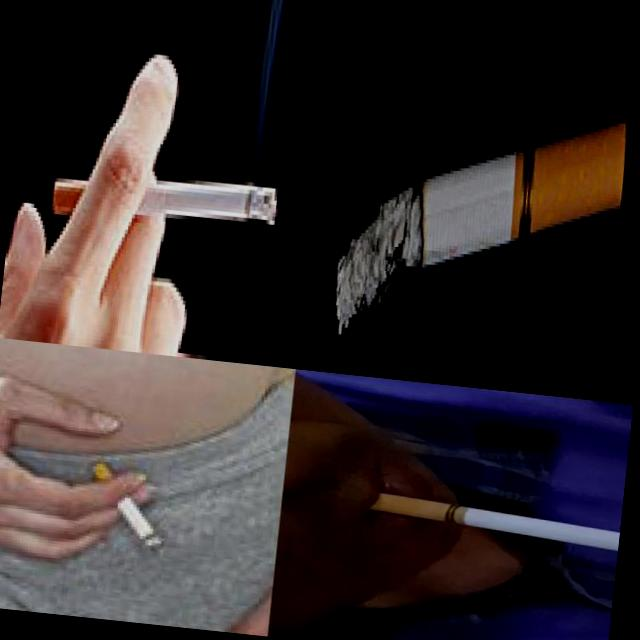smoke: (327, 88, 630, 366), (49, 163, 278, 238), (369, 493, 620, 558), (84, 461, 170, 551)
